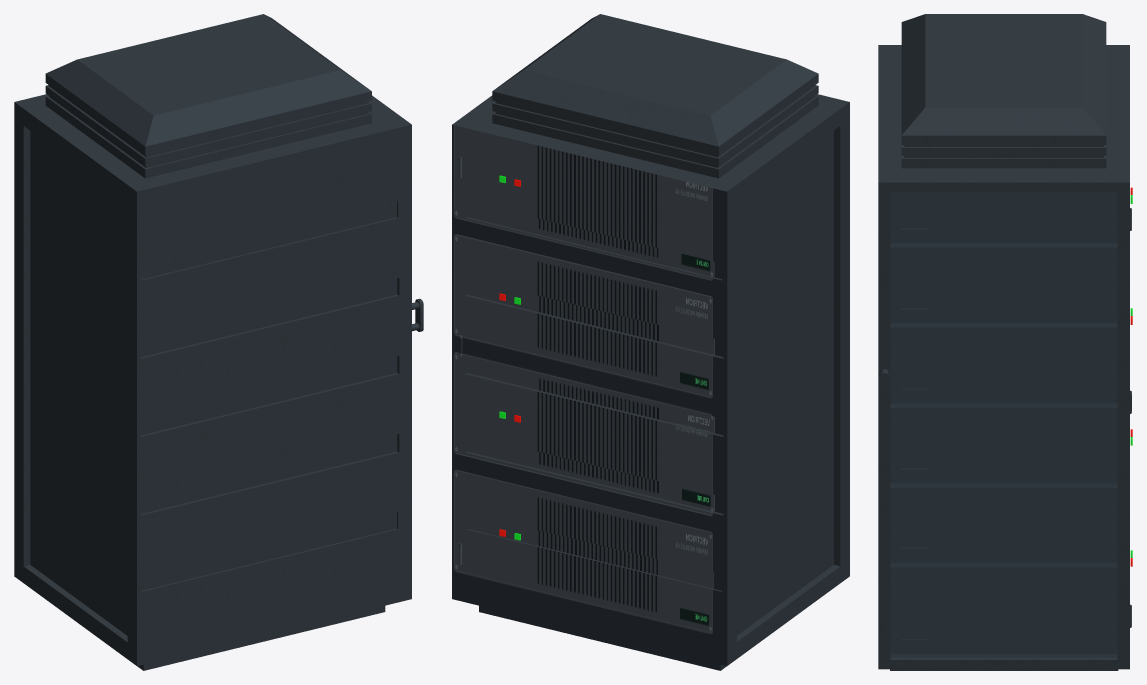
Rendered from 03_server_rack2.glb.
The picture shows the model from 3 angles, left to right: view 1: azimuth 30°, elevation 25°; view 2: azimuth 150°, elevation 25°; view 3: azimuth 270°, elevation 25°; orthographic projection. The views are drawn at different scales.
Parts seen in each view (by area): view 1: server, Cube.074; view 2: server, Cube.074; view 3: server, Cube.074.
Part boxes in pixels (x1,y1,x2,y2): server: (14,14,403,670); Cube.074: (369,95,423,600); server: (461,14,849,670); Cube.074: (452,95,494,600); server: (878,14,1129,670); Cube.074: (878,178,1131,669).
Size of what is drawn, in the model's own units: 1.33 by 2.38 by 0.9966.
Materials: 5 (5 with a texture image).
